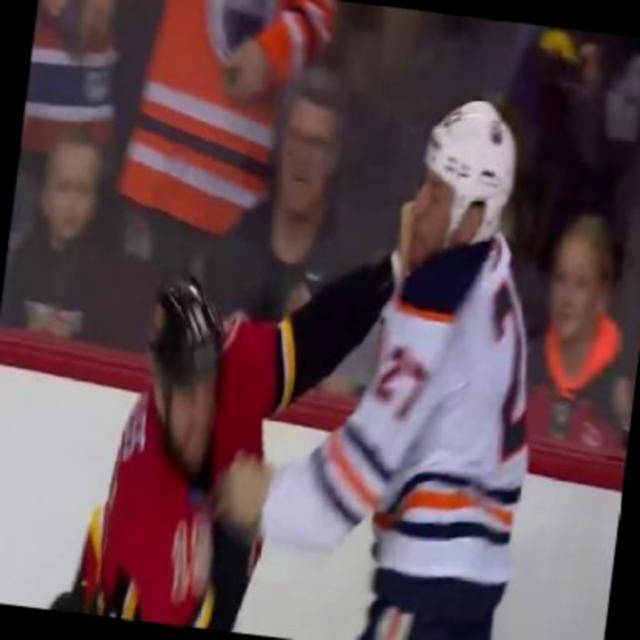fight: (68, 59, 568, 638)
